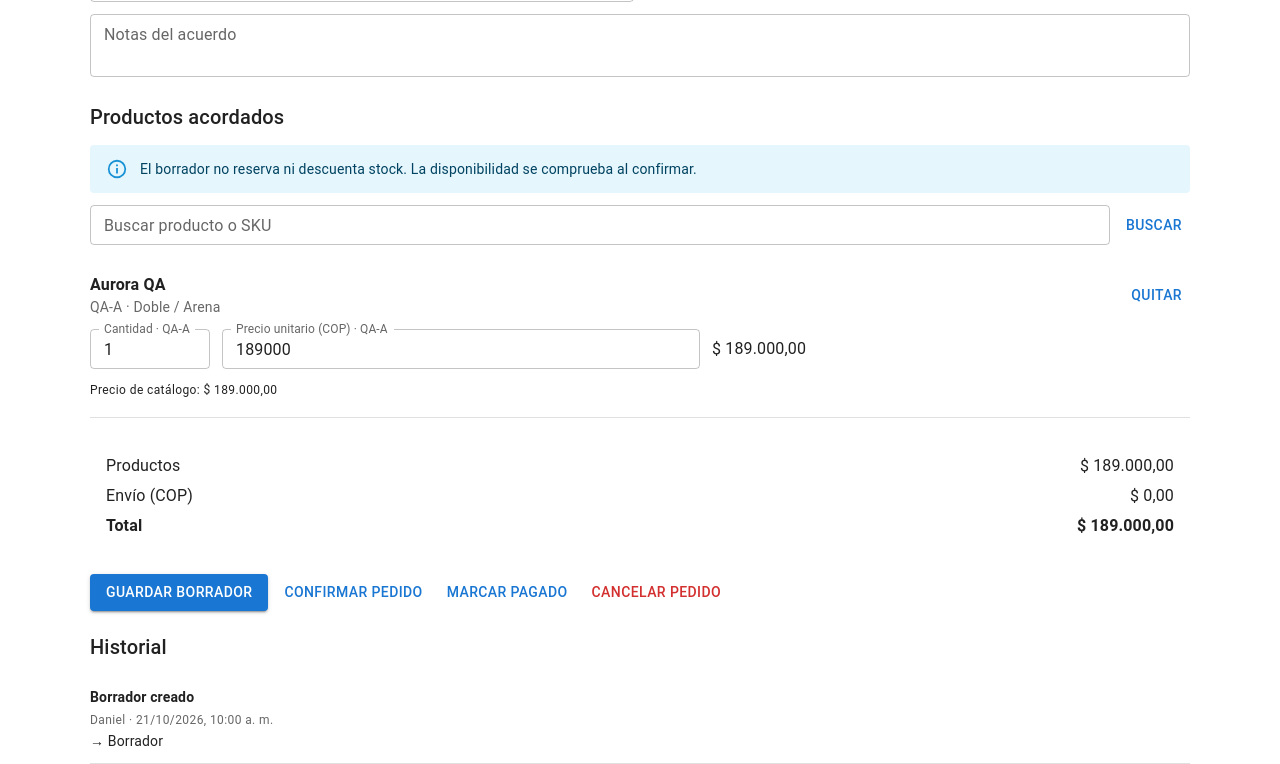
Scenario: requires explicit confirmation and sends revision-bound stock action once
(page scrolled)
Click the button "Confirmar pedido". click: coordinates (354, 593)
box: [276,574,431,611]
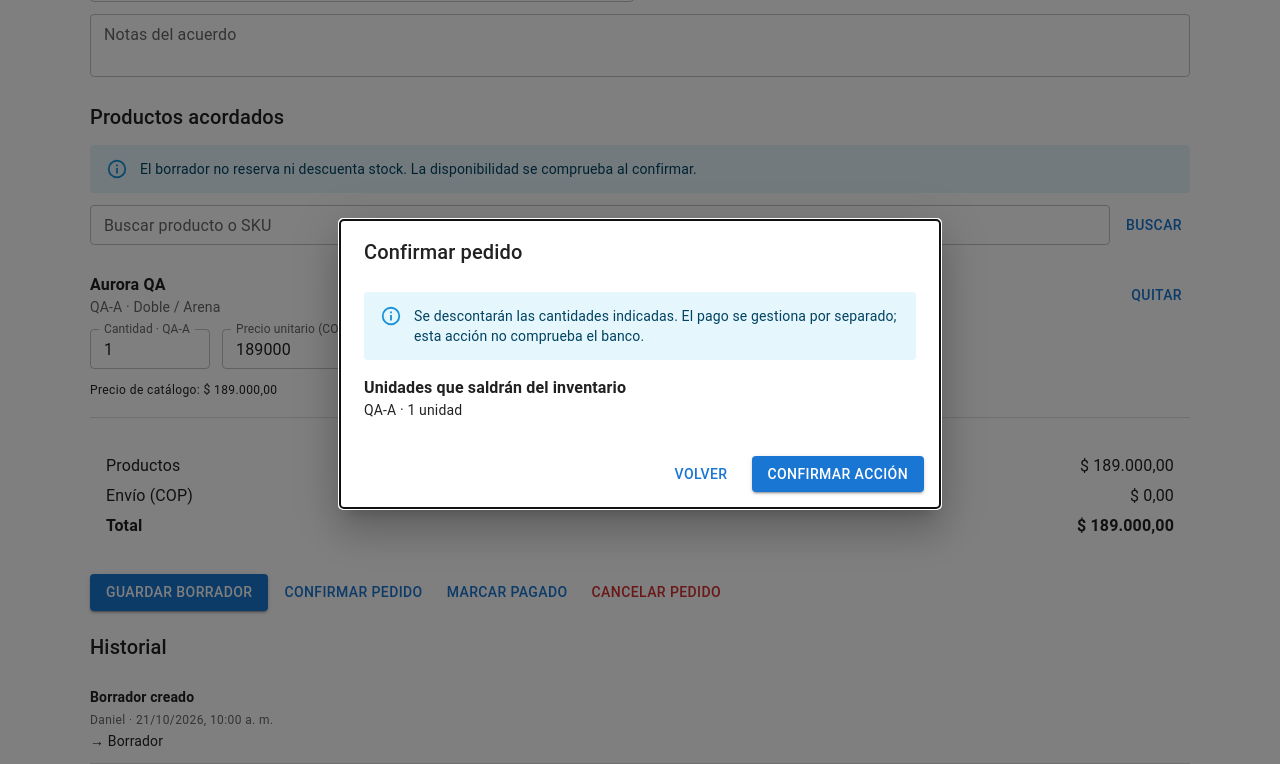
Expected: the text "Se descontarán las cantidades indicadas. El pago se gestiona por separado; esta acción no comprueba el banco." is shown, [414,308,897,344]
Click the button "Confirmar acción". click: coordinates (838, 474)
box: [752,456,924,492]
(page scrolled)
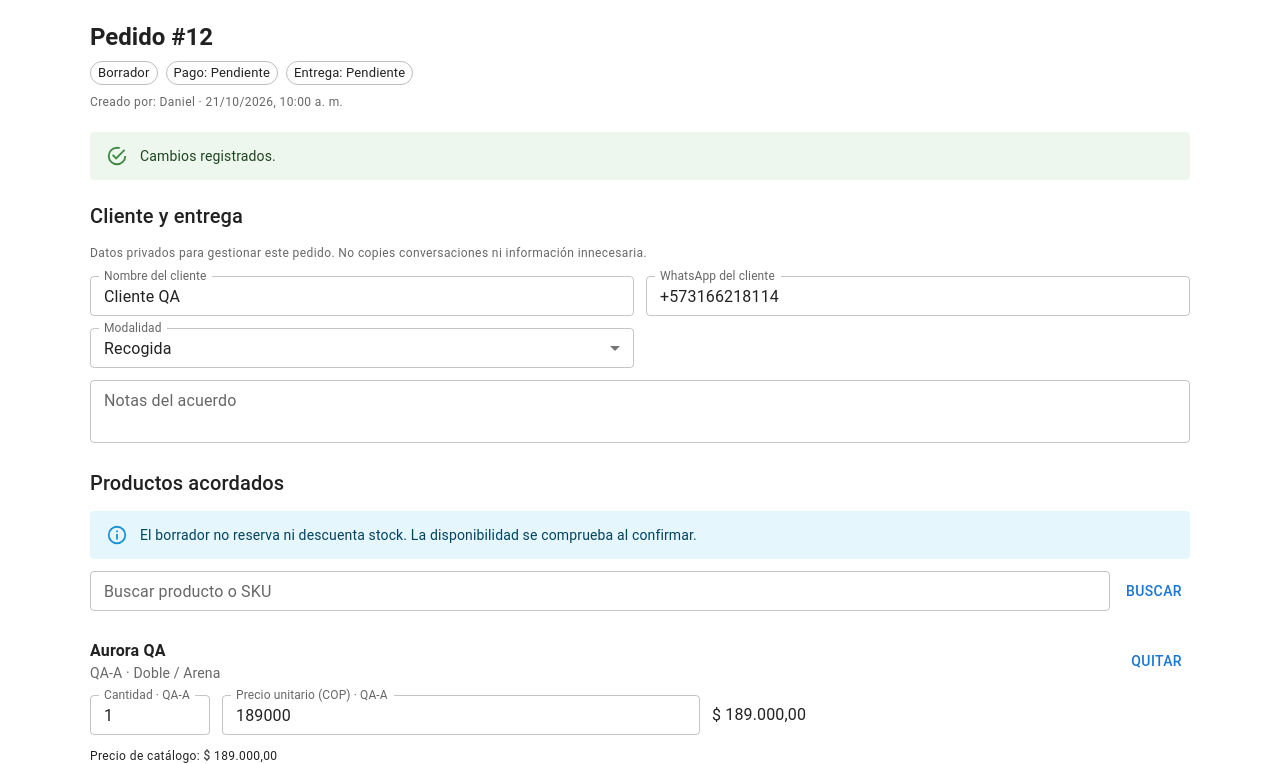
Expected: the text "Cambios registrados." is shown, [140,148,276,164]
